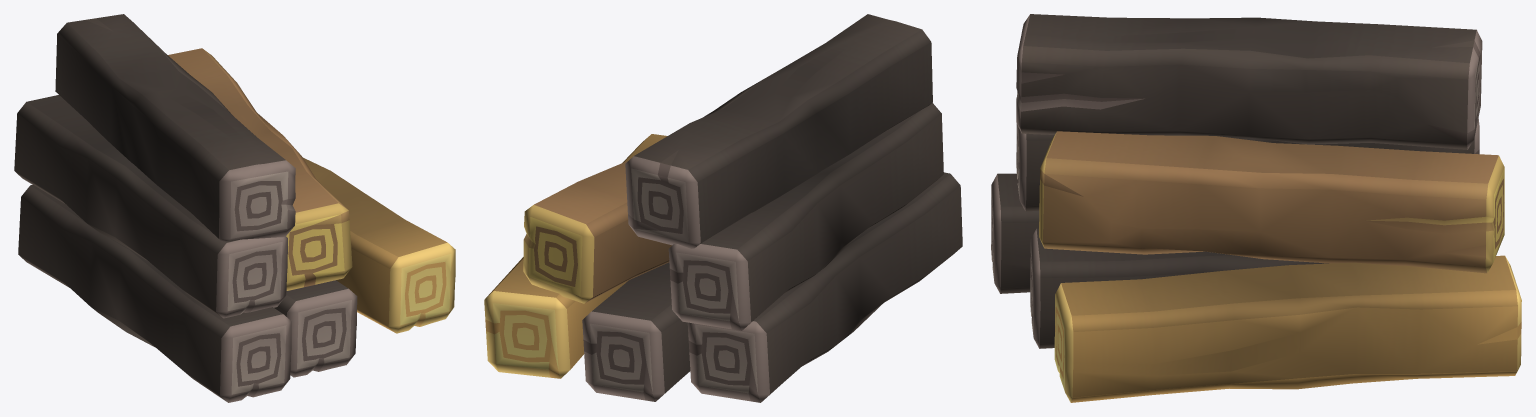
The model's file is elf_log_pile.fbx.
3 views of the same model, side by side, from view 1: azimuth 30°, elevation 25°; view 2: azimuth 150°, elevation 25°; view 3: azimuth 270°, elevation 25° (orthographic). The views are drawn at different scales.
Parts seen in each view (by area): view 1: elf_log_pile; view 2: elf_log_pile; view 3: elf_log_pile.
Part boxes in pixels (x1,y1,x2,y2): elf_log_pile: (14,14,455,402); elf_log_pile: (484,14,962,402); elf_log_pile: (991,14,1521,402).
Size of the model in its own units: 2.57 by 2.02 by 3.62.
